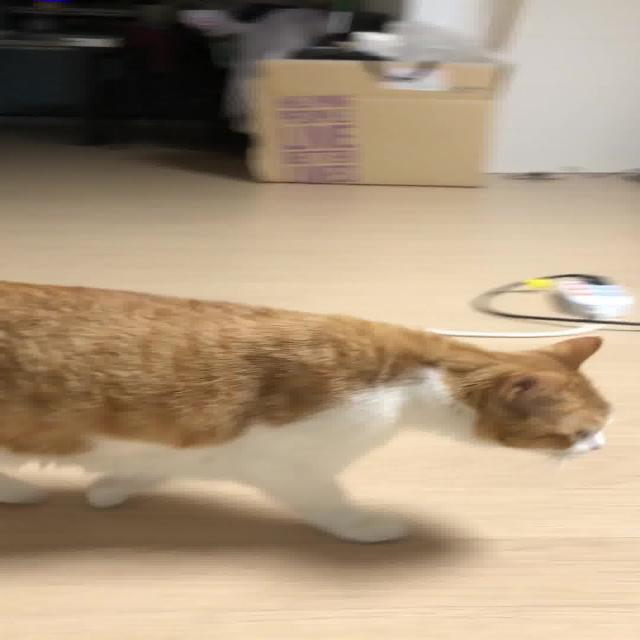cat: (0, 268, 640, 568)
